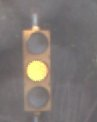Yellow: (19, 30, 53, 116)
